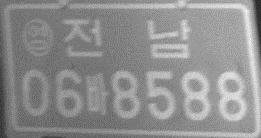0: (21, 68, 50, 117)
5: (144, 69, 177, 120)
6: (54, 68, 84, 119)
8: (110, 69, 141, 120), (216, 71, 247, 121), (180, 71, 210, 121)
바: (86, 72, 110, 117)
영: (20, 17, 54, 57)
전남_D: (61, 18, 191, 59)
